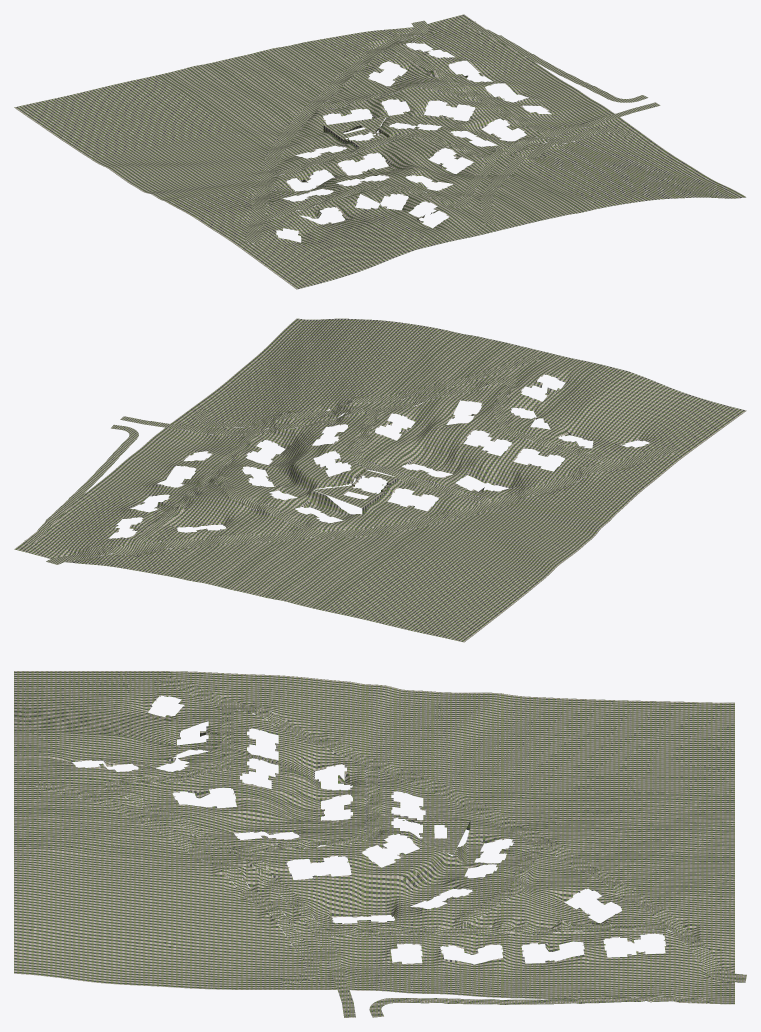
The model's file is context-ground.glb.
3 views of the same model, one above another, from view 1: azimuth 30°, elevation 25°; view 2: azimuth 150°, elevation 25°; view 3: azimuth 270°, elevation 25° (orthographic). The views are drawn at different scales.
Visible parts, largest first — view 1: context-ground-other-0; view 2: context-ground-other-0; view 3: context-ground-other-0.
Boxes of the visible parts, <box> form: context-ground-other-0: <box>14,14,746,289</box>; context-ground-other-0: <box>14,318,746,642</box>; context-ground-other-0: <box>14,671,746,1017</box>.
Bounding box in the file's own units: 312 × 32.82 × 315.
Materials: 1 (1 with a texture image).
